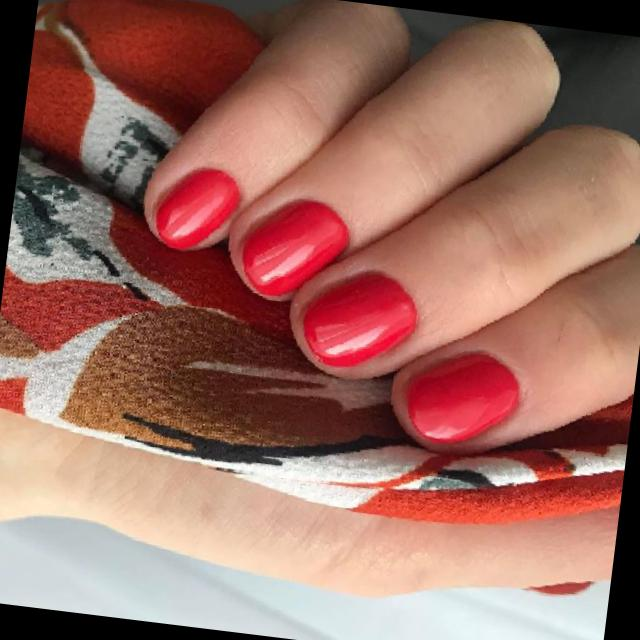Nail: (302, 272, 417, 367), (405, 352, 519, 442), (241, 200, 347, 296), (154, 168, 238, 249)
